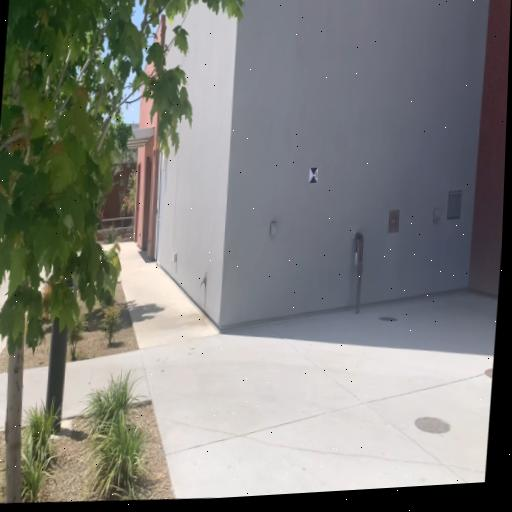target5: (308, 166, 317, 184)
